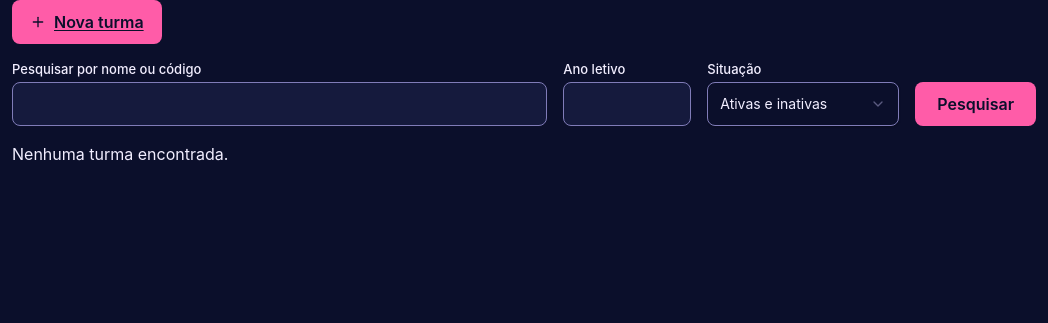
Scenario: 003/US1-2 ClassesList — pesquisa, filtros e paginação (FR-007) › pesquisa com ano e situação no servidor e carrega mais com o cursor
Expected: the text "Nenhuma turma encontrada." is shown, [12,144,228,164]
In the search field labelled "Pesquisar por nome ou código": x=280, y=104 [12,82,547,126], type " algorítmos "
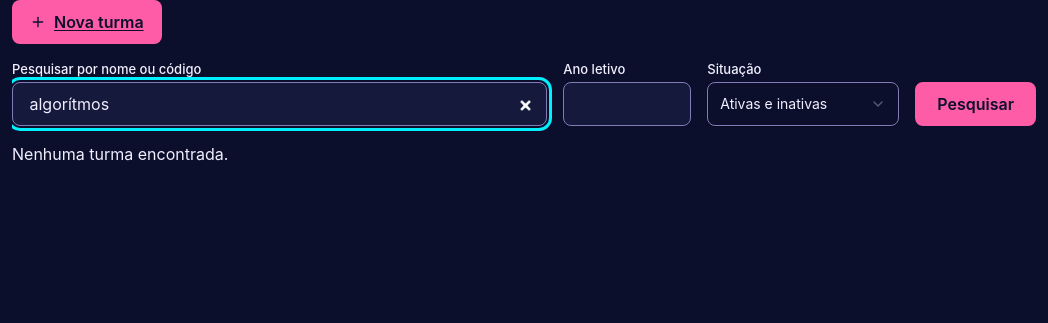
In the field labelled "Ano letivo": x=627, y=104 [563,82,691,126], type "2026"
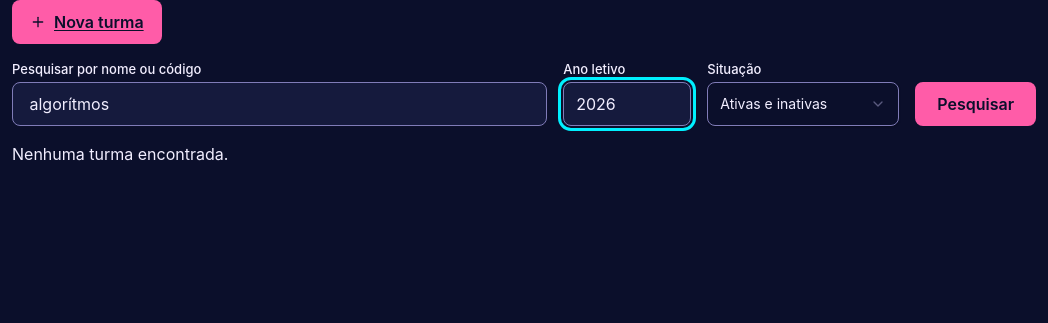
Click the dropdown named "Situação": x=803, y=104 [707,82,899,126]
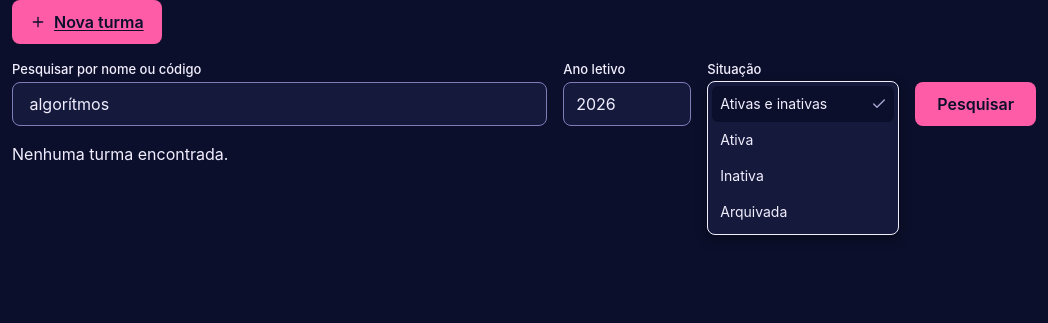
Click the option "Arquivada": x=754, y=212 [720,203,787,220]
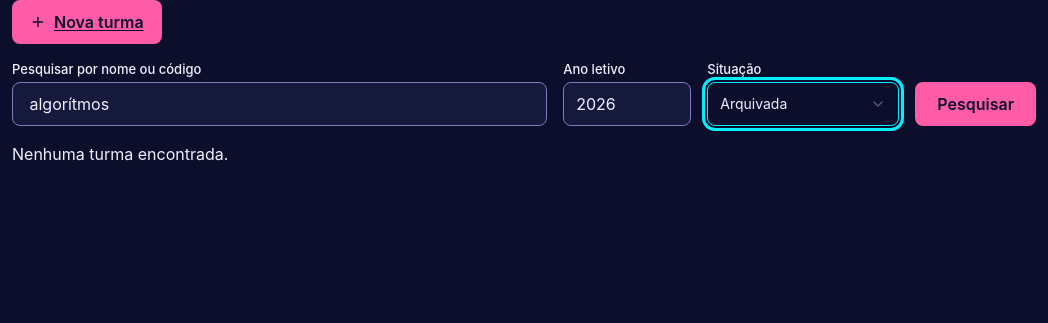
Click the button "Pesquisar": x=976, y=104 [915,82,1036,126]
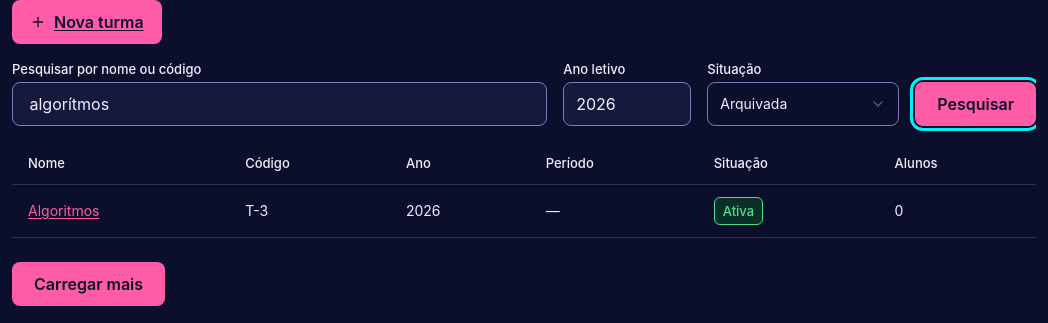
Expected: the link "Algoritmos" is shown, [28,202,100,219]
Click the button "Carregar mais": x=89, y=284 [12,262,165,306]
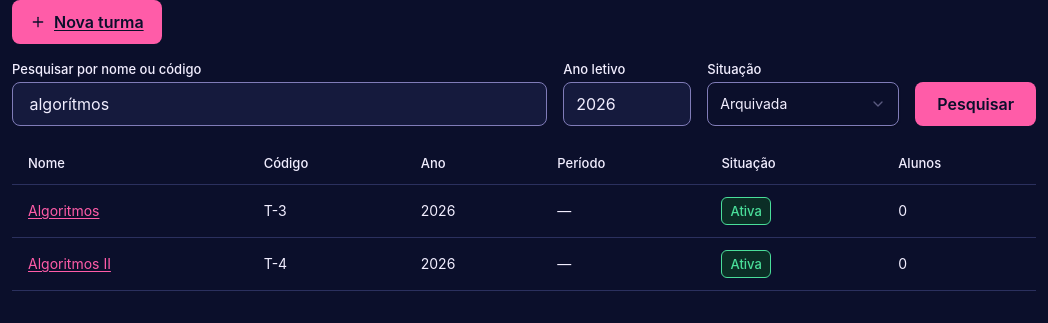
Expected: the link "Algoritmos" is shown, [28,202,100,219]
Expected: the link "Algoritmos II" is shown, [28,255,111,272]
Expected: the button "Carregar mais" is gone
